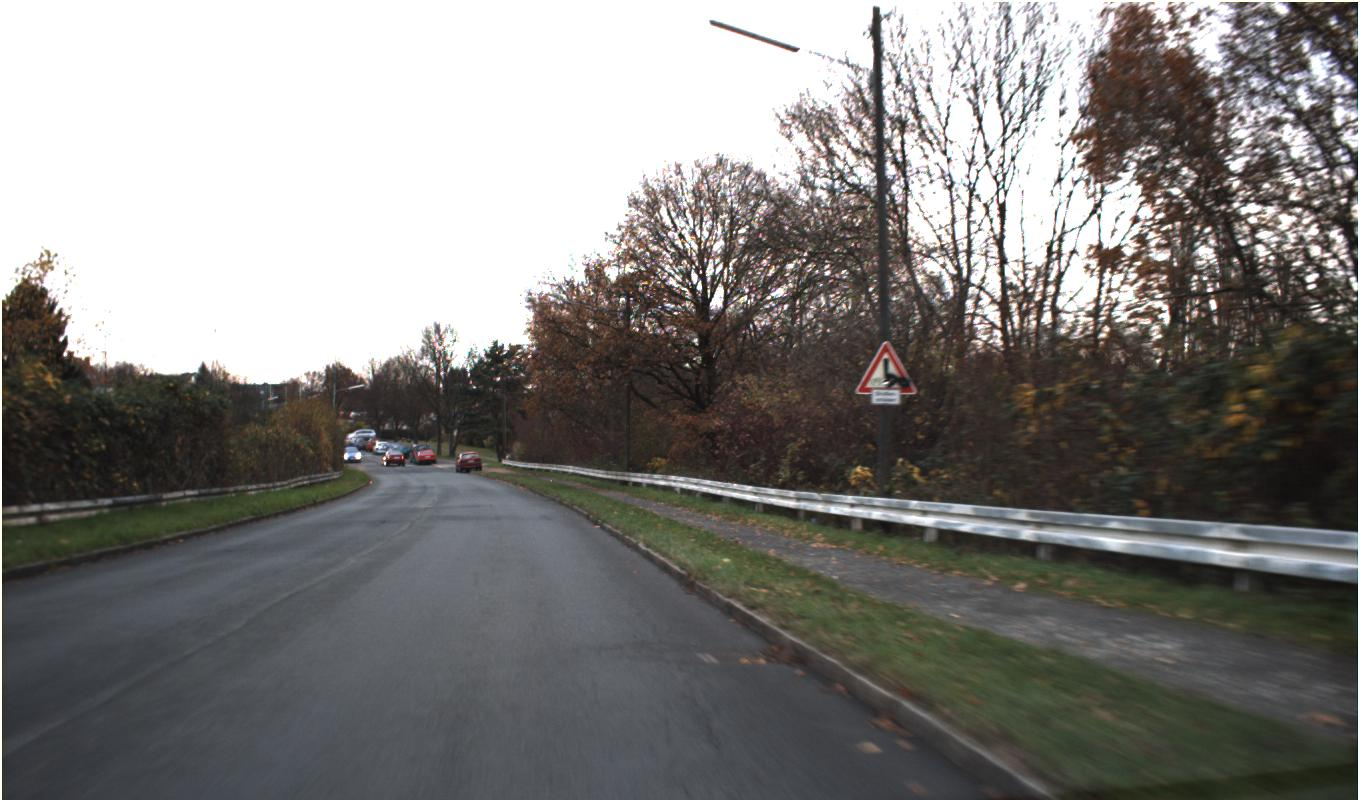danger: (853, 339, 917, 394)
